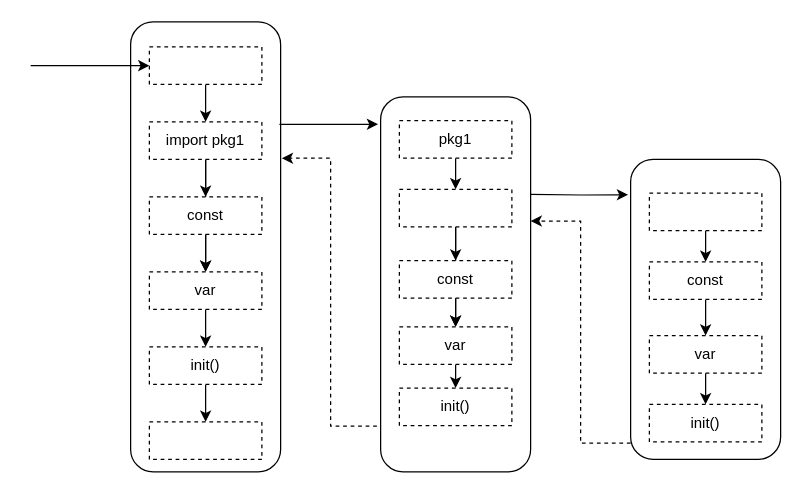
Some shapes in this 803 by 494 pixel diagram are drawn without their labels. The box of each missing label's shape, as (x1, y1, x2, y2) in pixels:
import pkg2: (398, 188, 512, 227)
main: (148, 46, 262, 84)
main(): (148, 421, 262, 459)
pkg2: (648, 192, 762, 231)
